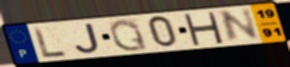0: (146, 14, 181, 50)
H: (182, 11, 226, 46)
J: (74, 22, 102, 55)
L: (31, 25, 69, 59)
N: (218, 7, 262, 45)
Q: (107, 18, 151, 53)
